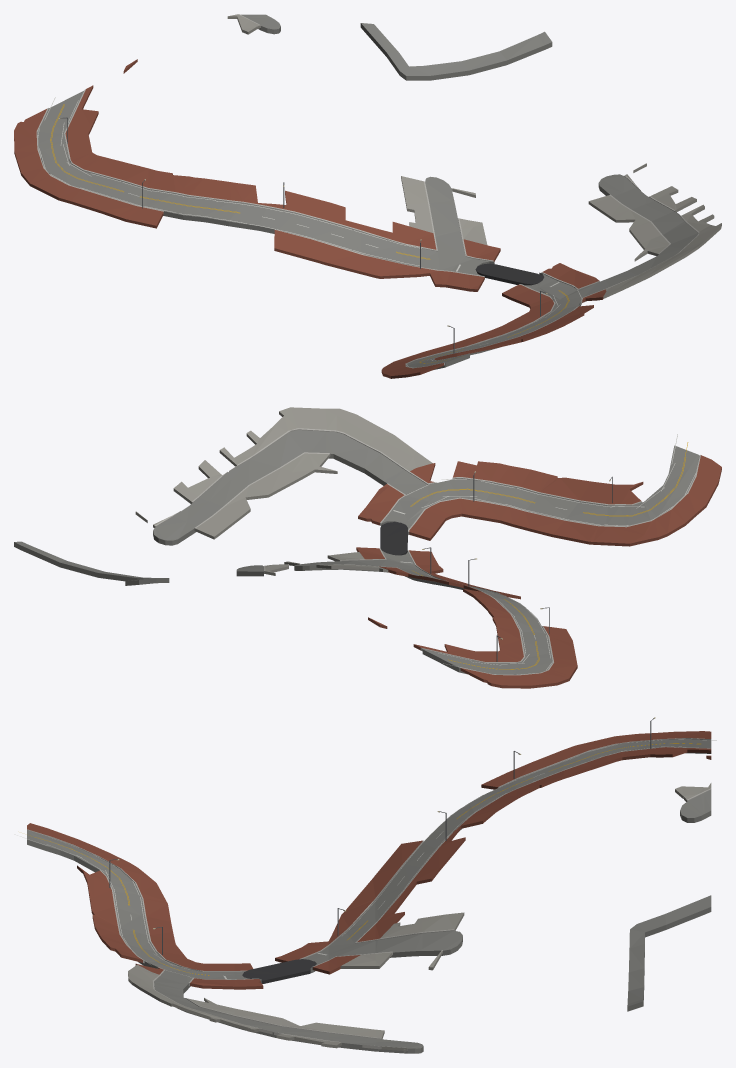
3 renders of one model, top to bottom at view 1: azimuth 30°, elevation 25°; view 2: azimuth 150°, elevation 25°; view 3: azimuth 270°, elevation 25°, orthographic. The views are drawn at different scales.
Bounding box in the file's own units: 141 × 36.21 × 151.
